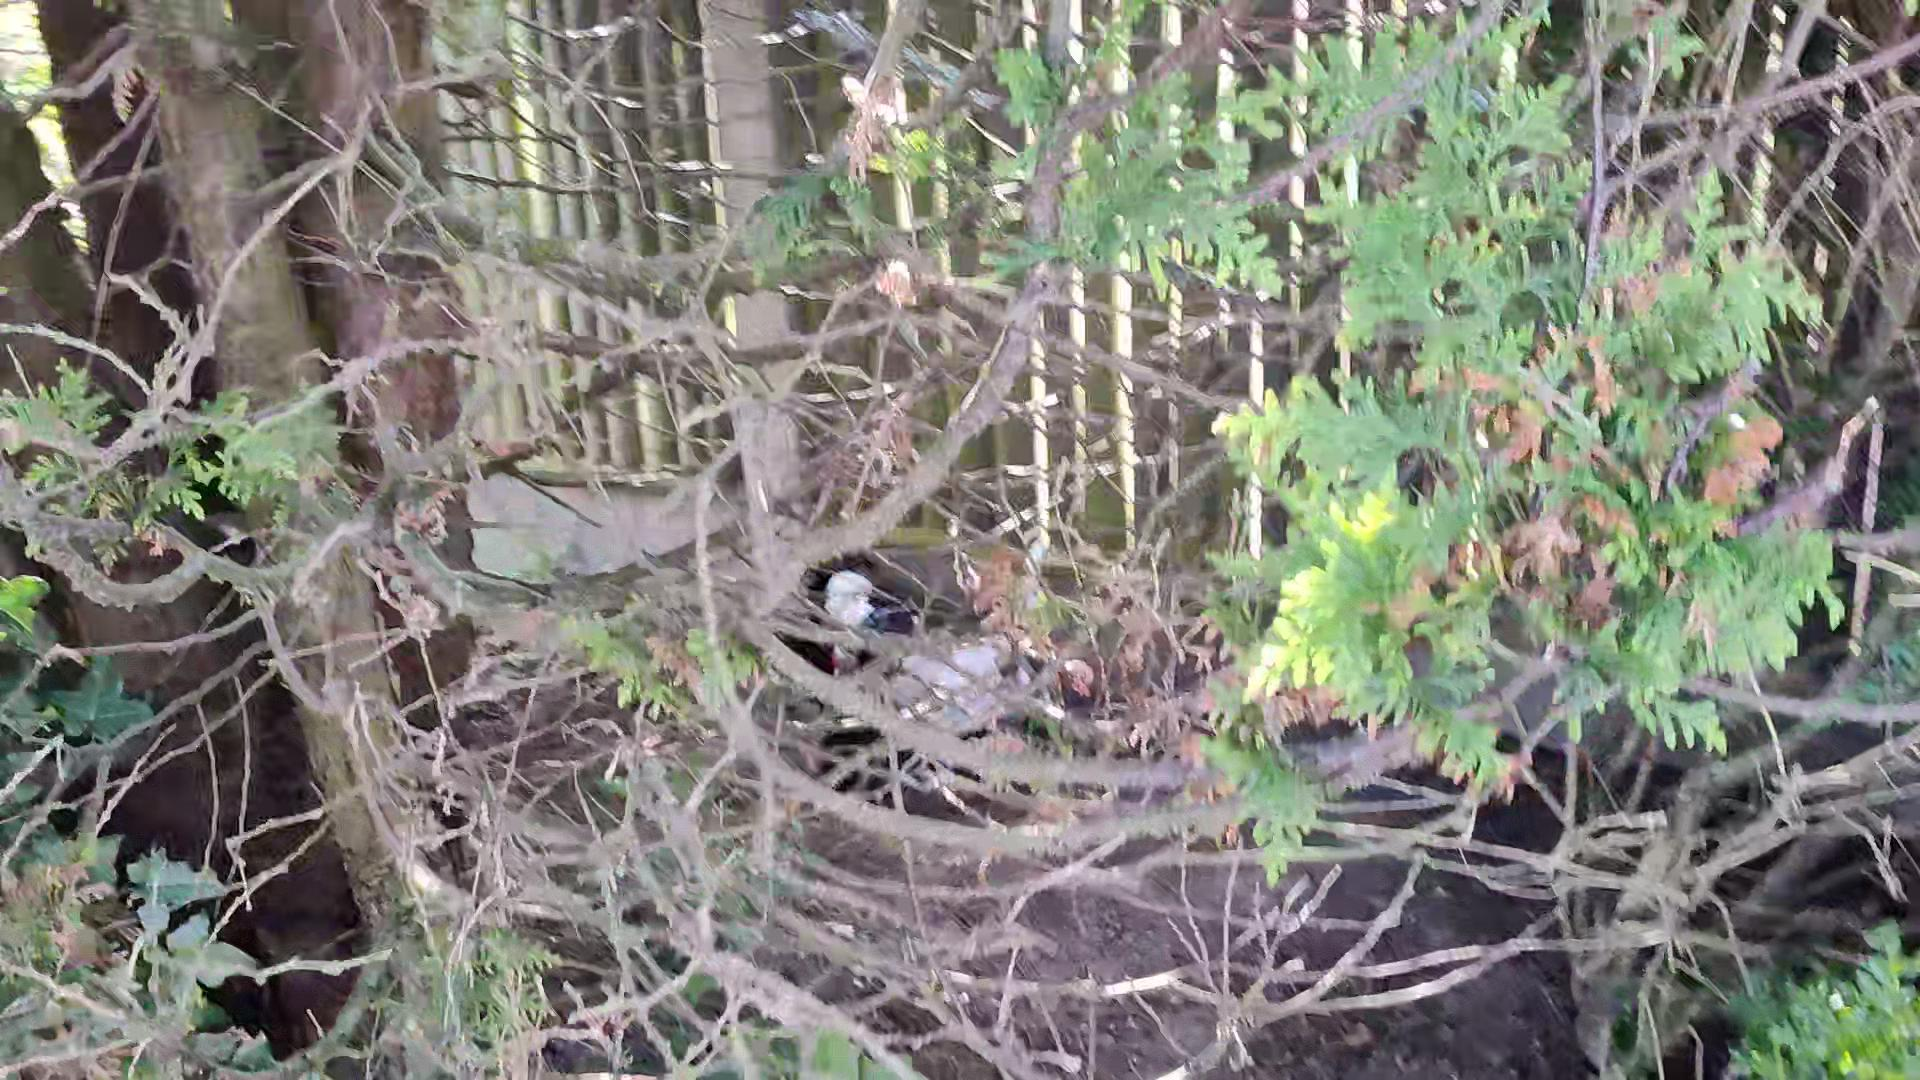Dog: (807, 525, 1058, 742)
